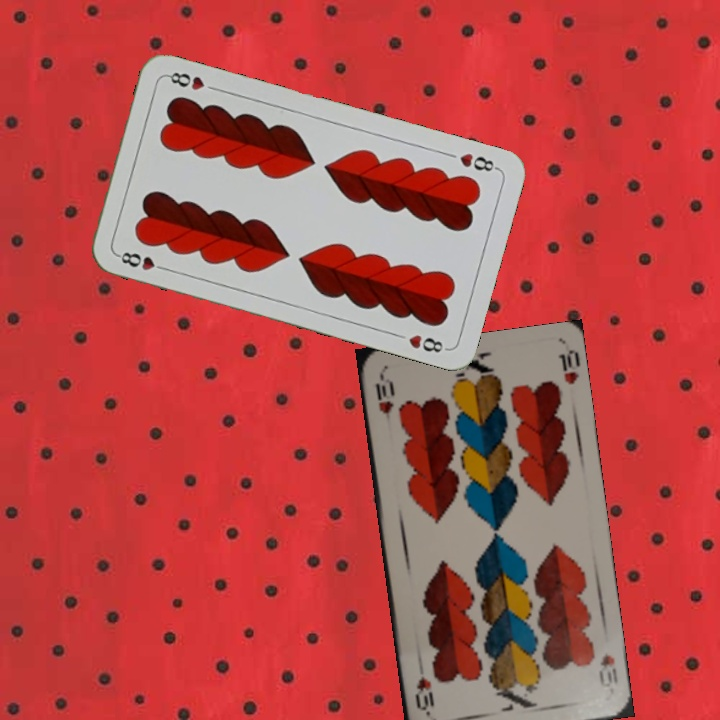H10: (371, 371, 396, 429), (594, 649, 620, 690)
H8: (113, 248, 171, 274), (455, 149, 501, 175)
